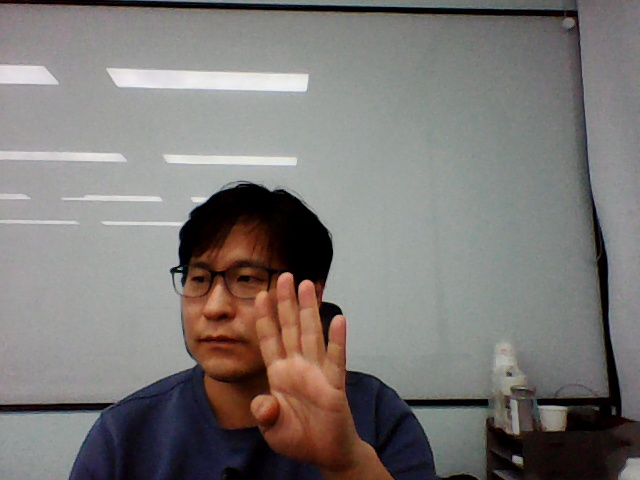four: (235, 268, 374, 469)
